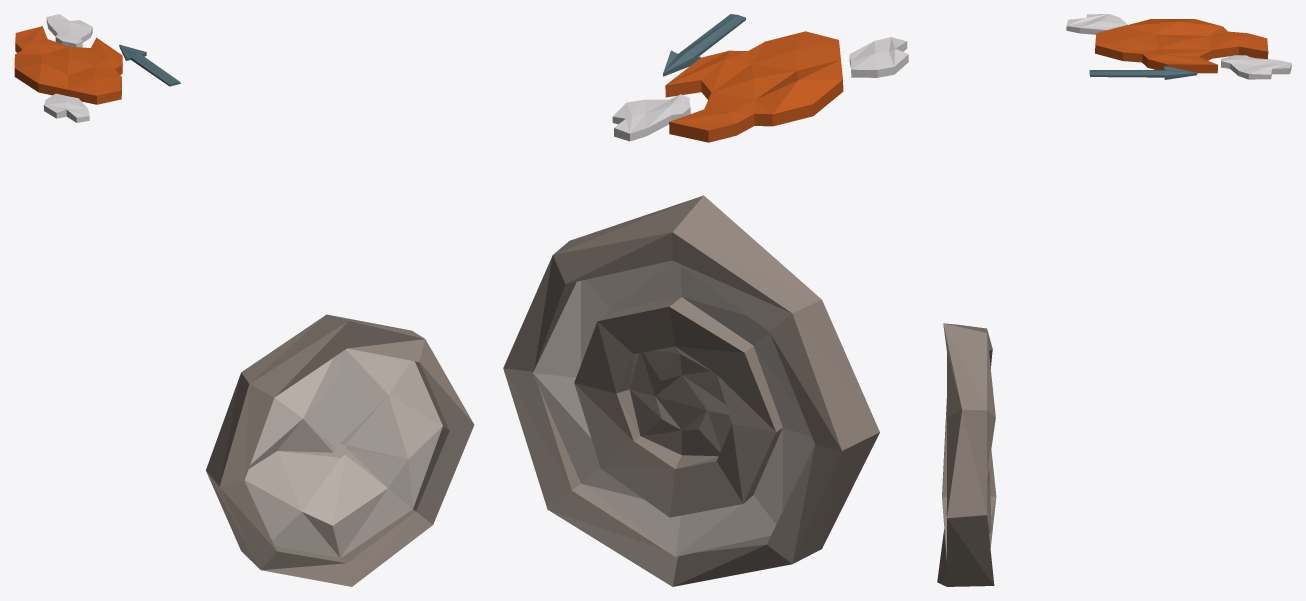
Rendered from item_fall_sp_up.FBX.
The picture shows the model from 3 angles, left to right: view 1: azimuth 30°, elevation 25°; view 2: azimuth 150°, elevation 25°; view 3: azimuth 270°, elevation 25°; orthographic projection. The views are drawn at different scales.
Visible parts, largest first — view 1: coin, spup; view 2: coin, spup; view 3: coin, spup.
Boxes of the visible parts, x1=… form: coin: x1=206, y1=314, x2=474, y2=586; spup: x1=14, y1=14, x2=180, y2=122; coin: x1=503, y1=195, x2=879, y2=586; spup: x1=612, y1=14, x2=908, y2=142; coin: x1=937, y1=323, x2=996, y2=586; spup: x1=1066, y1=14, x2=1291, y2=79.
Size of the model in its own units: 42.43 by 55.89 by 38.14.
Materials: 1 (1 with a texture image).
